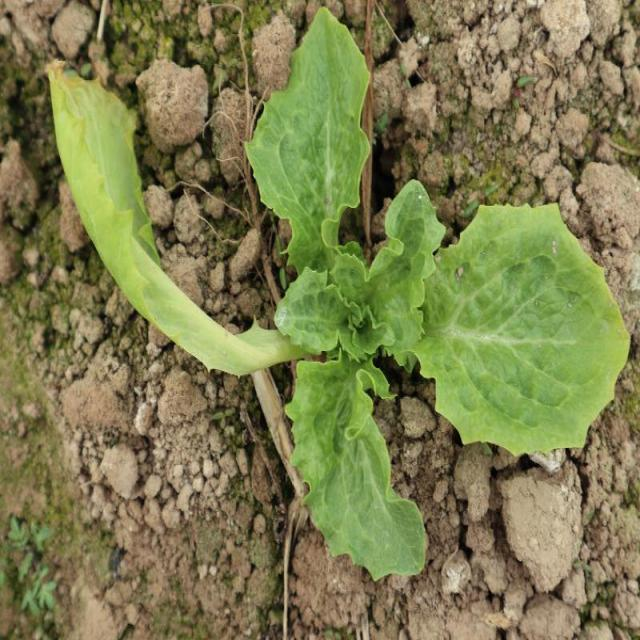crop: (241, 9, 632, 582)
